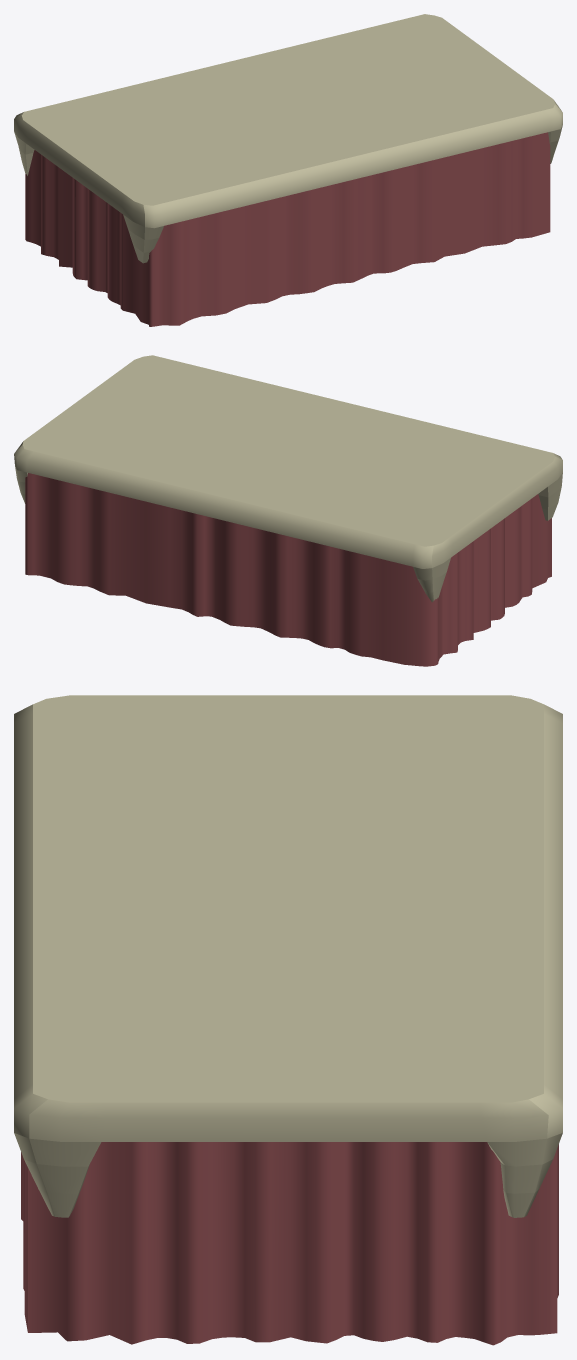
Rendered from MesaLarga.fbx.
3 renders of one model, top to bottom at view 1: azimuth 30°, elevation 25°; view 2: azimuth 150°, elevation 25°; view 3: azimuth 270°, elevation 25°, orthographic. The views are drawn at different scales.
Parts seen in each view (by area): view 1: pCube3, nurbsToPoly1; view 2: pCube3, nurbsToPoly1; view 3: pCube3, nurbsToPoly1.
Boxes of the visible parts, x1,y1,x2,y2 form: pCube3: (14,14,562,263); nurbsToPoly1: (25,132,550,326); pCube3: (14,355,562,602); nurbsToPoly1: (25,473,551,666); pCube3: (14,695,562,1217); nurbsToPoly1: (21,1142,558,1345).
Size of the model in its own units: 7.9 by 2.17 by 4.44.
